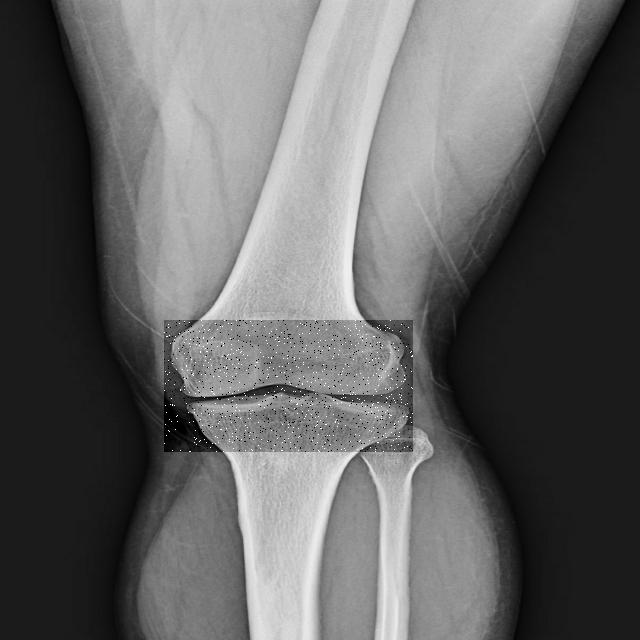normal: (164, 320, 413, 452)
